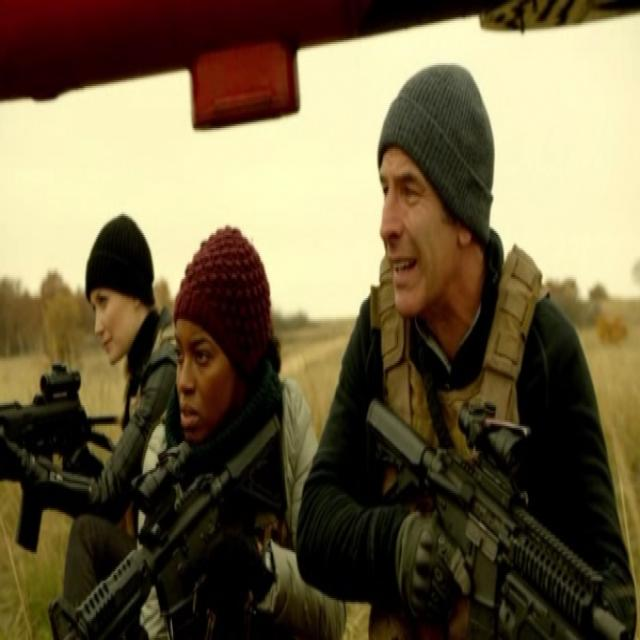rifle: (363, 392, 633, 640), (58, 406, 287, 640)
